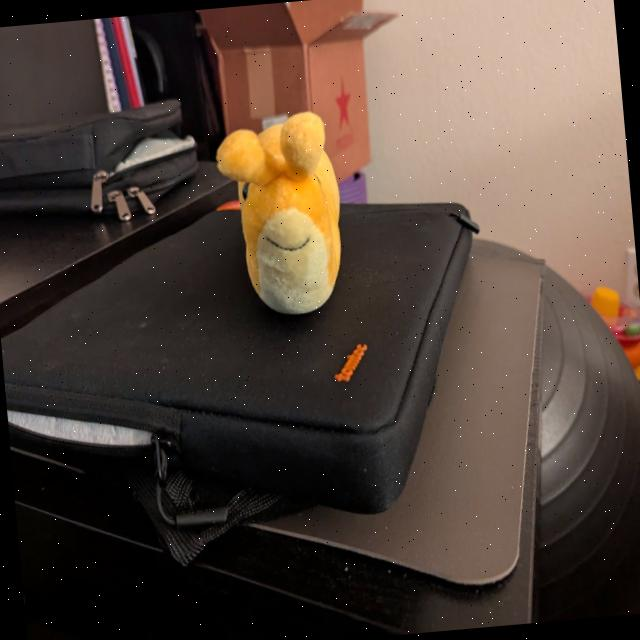banana-slug-toy: (210, 111, 356, 333)
